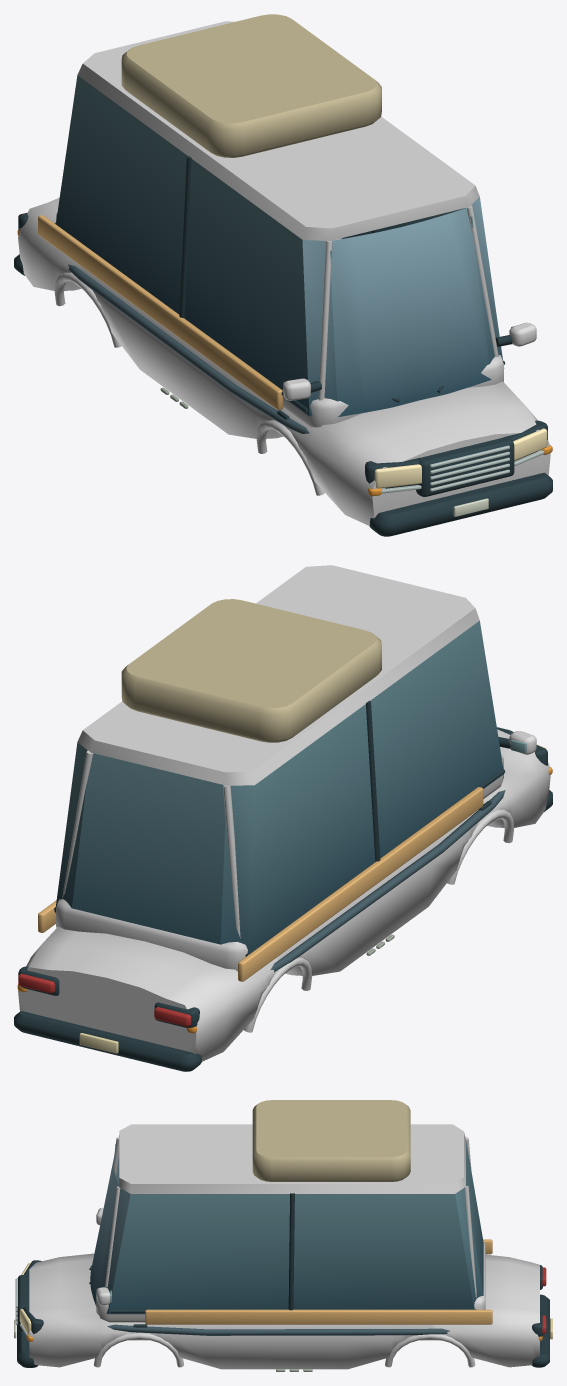
File: roamer.glb
3 views of the same model, one above another, from view 1: azimuth 30°, elevation 25°; view 2: azimuth 150°, elevation 25°; view 3: azimuth 270°, elevation 25° (orthographic). The views are drawn at different scales.
Parts seen in each view (by area): view 1: Chassis, Headlamps; view 2: Chassis, BrakeLamps; view 3: Chassis.
Boxes of the visible parts, x1,y1,x2,y2 form: Chassis: [14, 14, 552, 536]; Headlamps: [374, 428, 547, 488]; Chassis: [14, 565, 552, 1071]; BrakeLamps: [18, 973, 191, 1026]; Chassis: [14, 1100, 552, 1371].
Size of the model in its own units: 2.12 by 2.37 by 5.5.
